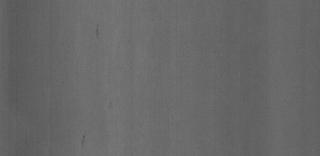water spot: (74, 124, 90, 148), (88, 24, 106, 42), (99, 95, 117, 111)
